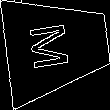M_E: (32, 20, 81, 73)
